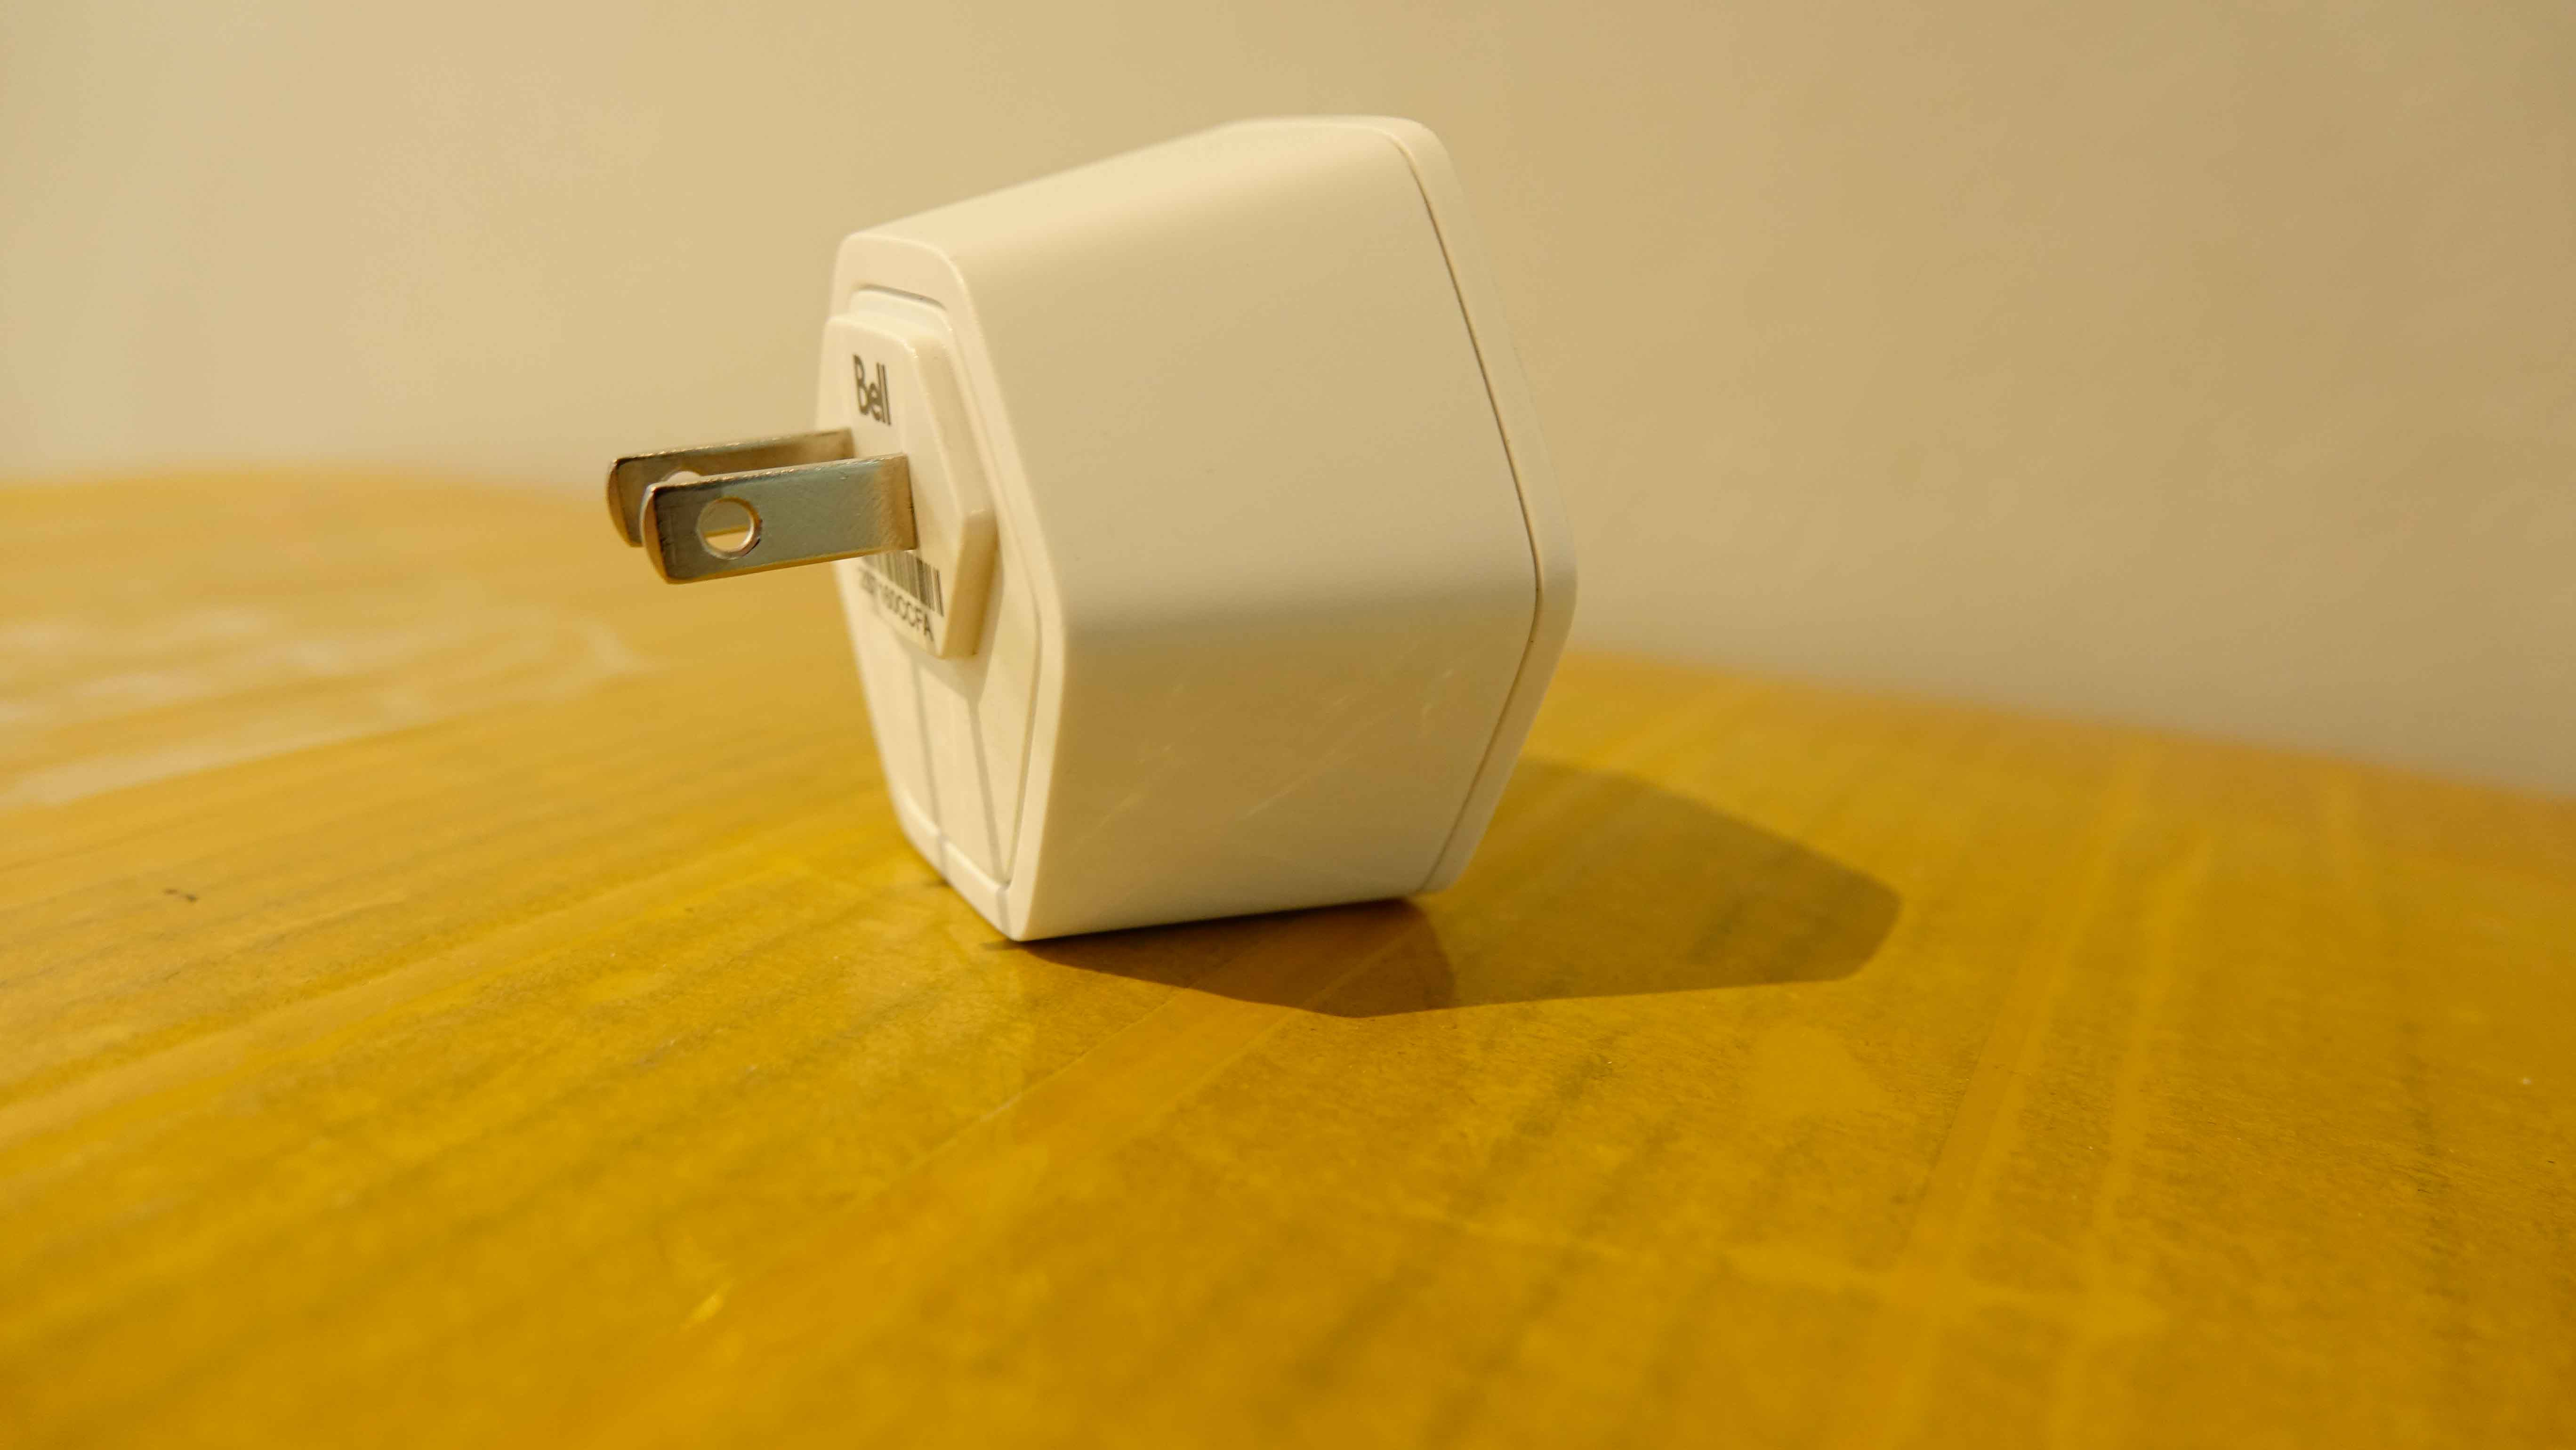pod: (589, 97, 1587, 955)
